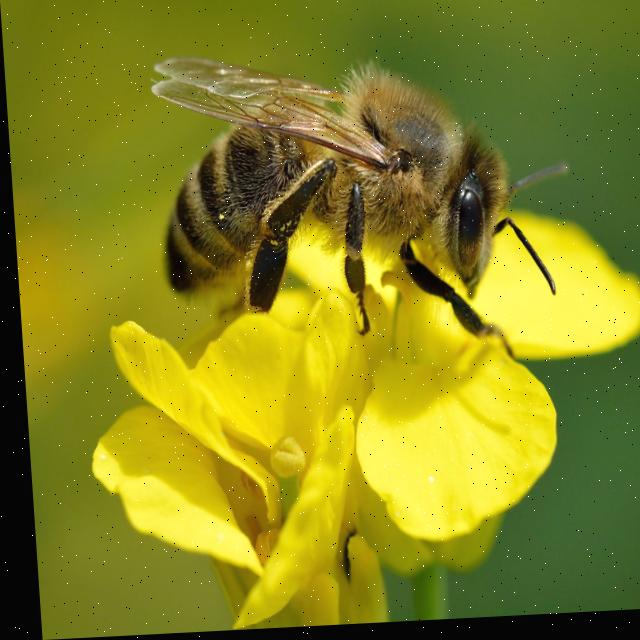Apis-mellifera-scutellata: (104, 4, 597, 380)
